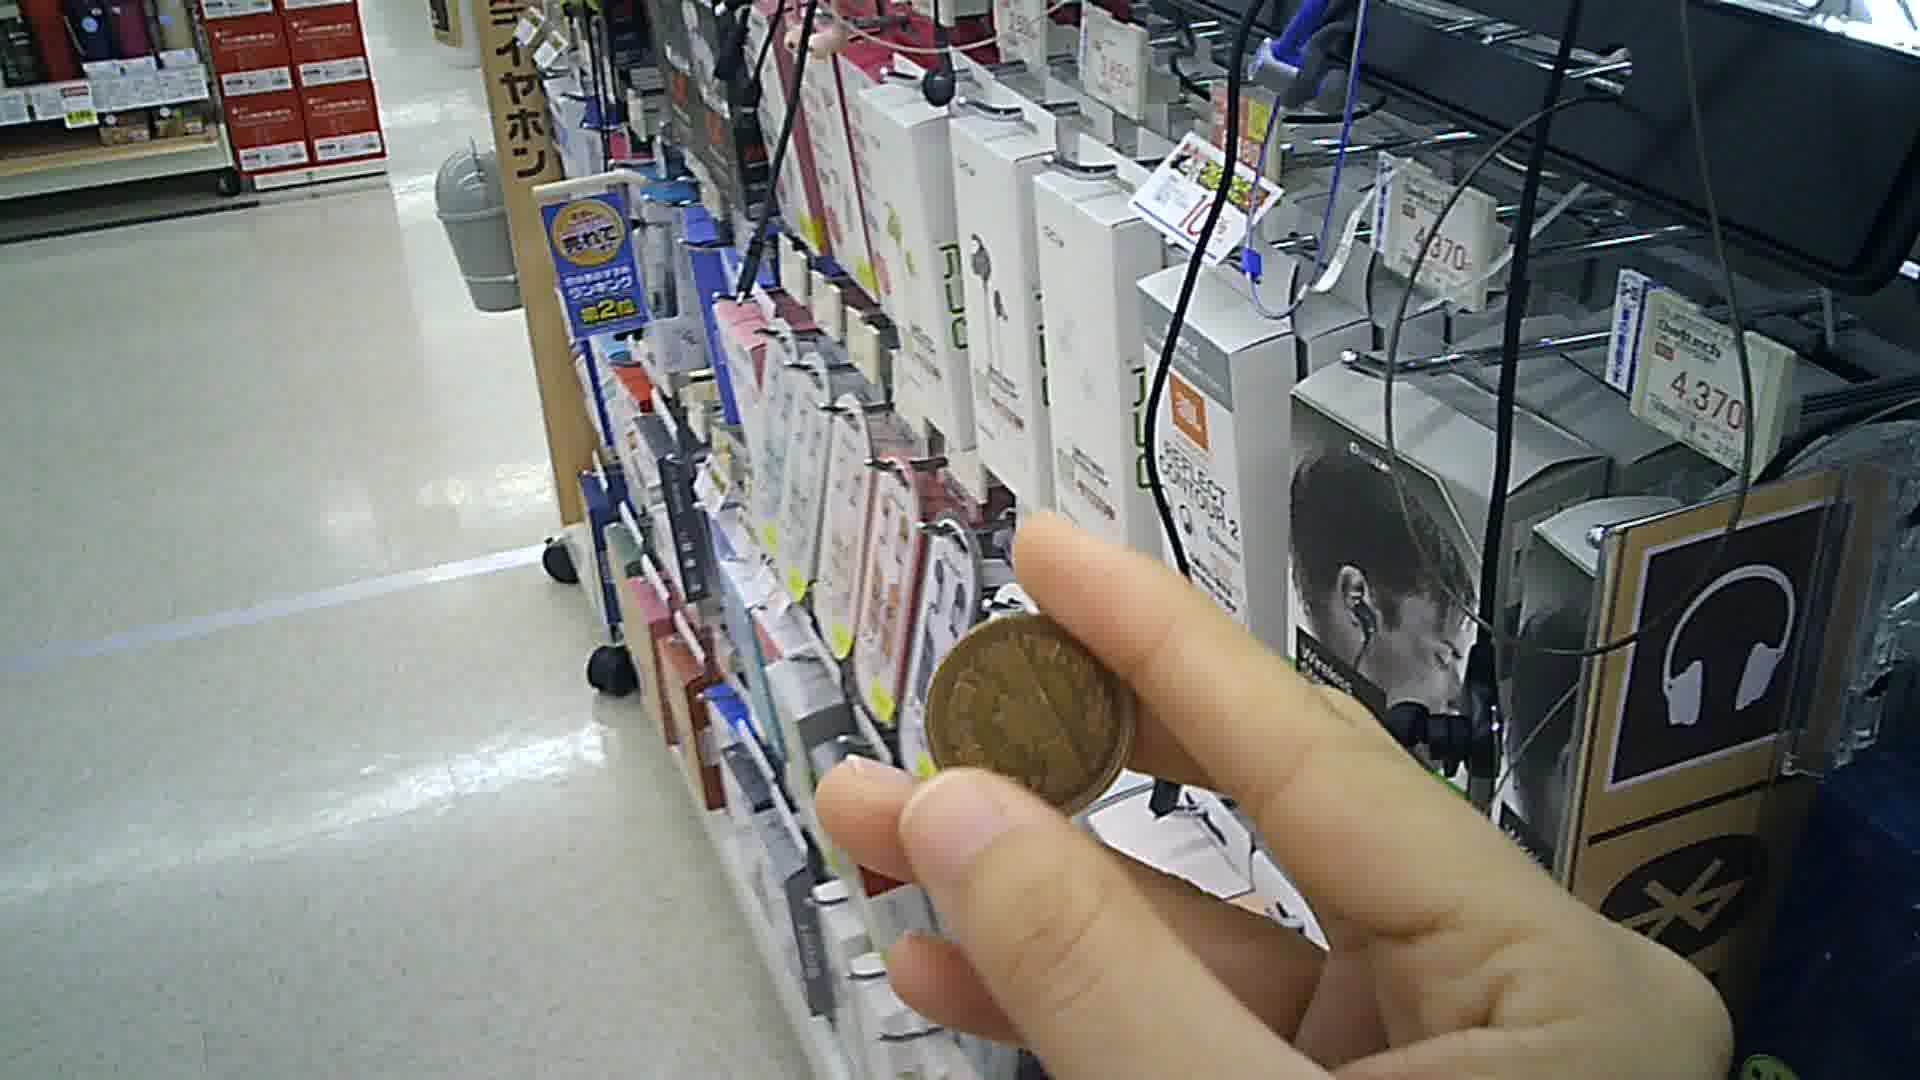10 Yen: (918, 612, 1147, 819)
